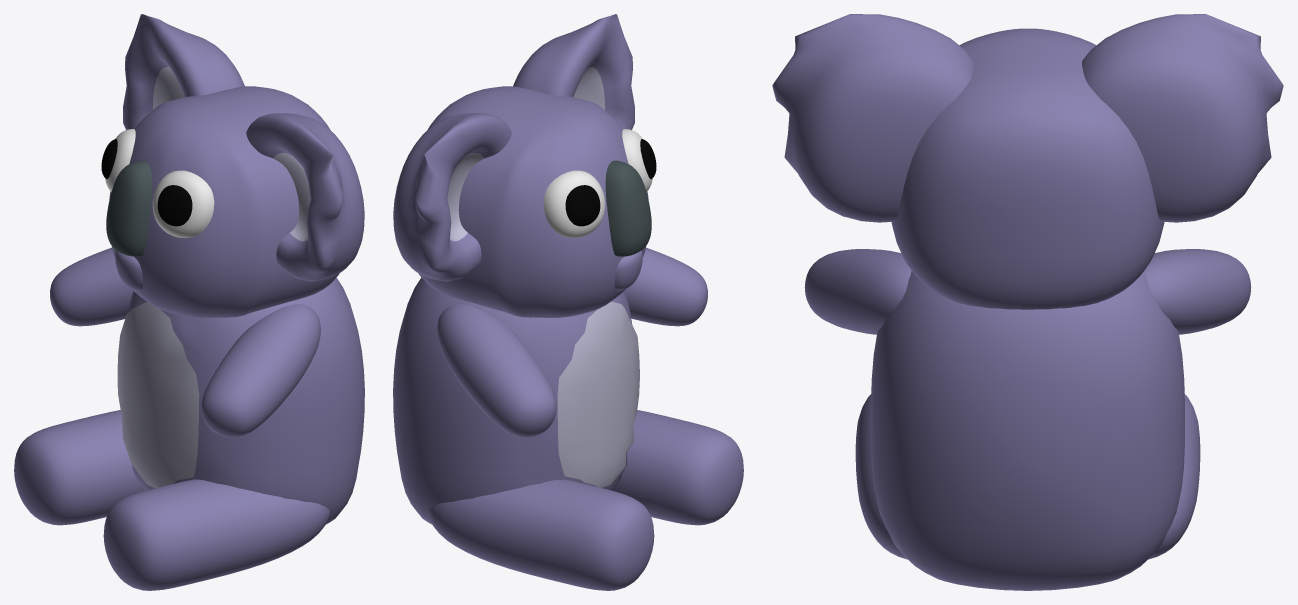
File: Koala_1.fbx
3 renders of one model, left to right at view 1: azimuth 30°, elevation 25°; view 2: azimuth 150°, elevation 25°; view 3: azimuth 270°, elevation 25°, orthographic. The views are drawn at different scales.
Visible parts, largest first — view 1: Cube; view 2: Cube; view 3: Cube.
Boxes of the visible parts, box(x1,y1,x2,y2) form: Cube: box(14, 14, 364, 590); Cube: box(393, 14, 743, 590); Cube: box(772, 14, 1283, 590).
Bounding box in the file's own units: 982 × 1547 × 1315.
